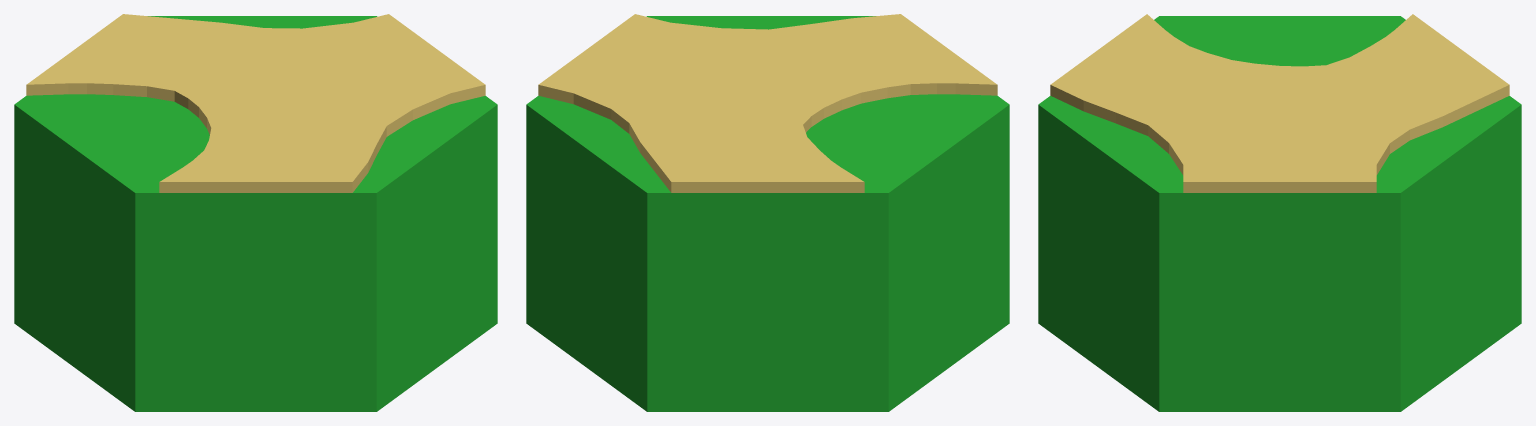
The model's file is module-corner_land_path_y.glb.
3 views of the same model, side by side, from view 1: azimuth 30°, elevation 25°; view 2: azimuth 150°, elevation 25°; view 3: azimuth 270°, elevation 25° (orthographic).
Parts seen in each view (by area): view 1: module-corner_land_path_y; view 2: module-corner_land_path_y; view 3: module-corner_land_path_y.
Part boxes in pixels (bbox=[...]): module-corner_land_path_y: bbox=[14, 14, 497, 411]; module-corner_land_path_y: bbox=[526, 14, 1009, 411]; module-corner_land_path_y: bbox=[1038, 14, 1521, 411].
Size of the model in its own units: 0.866 by 0.525 by 1.
